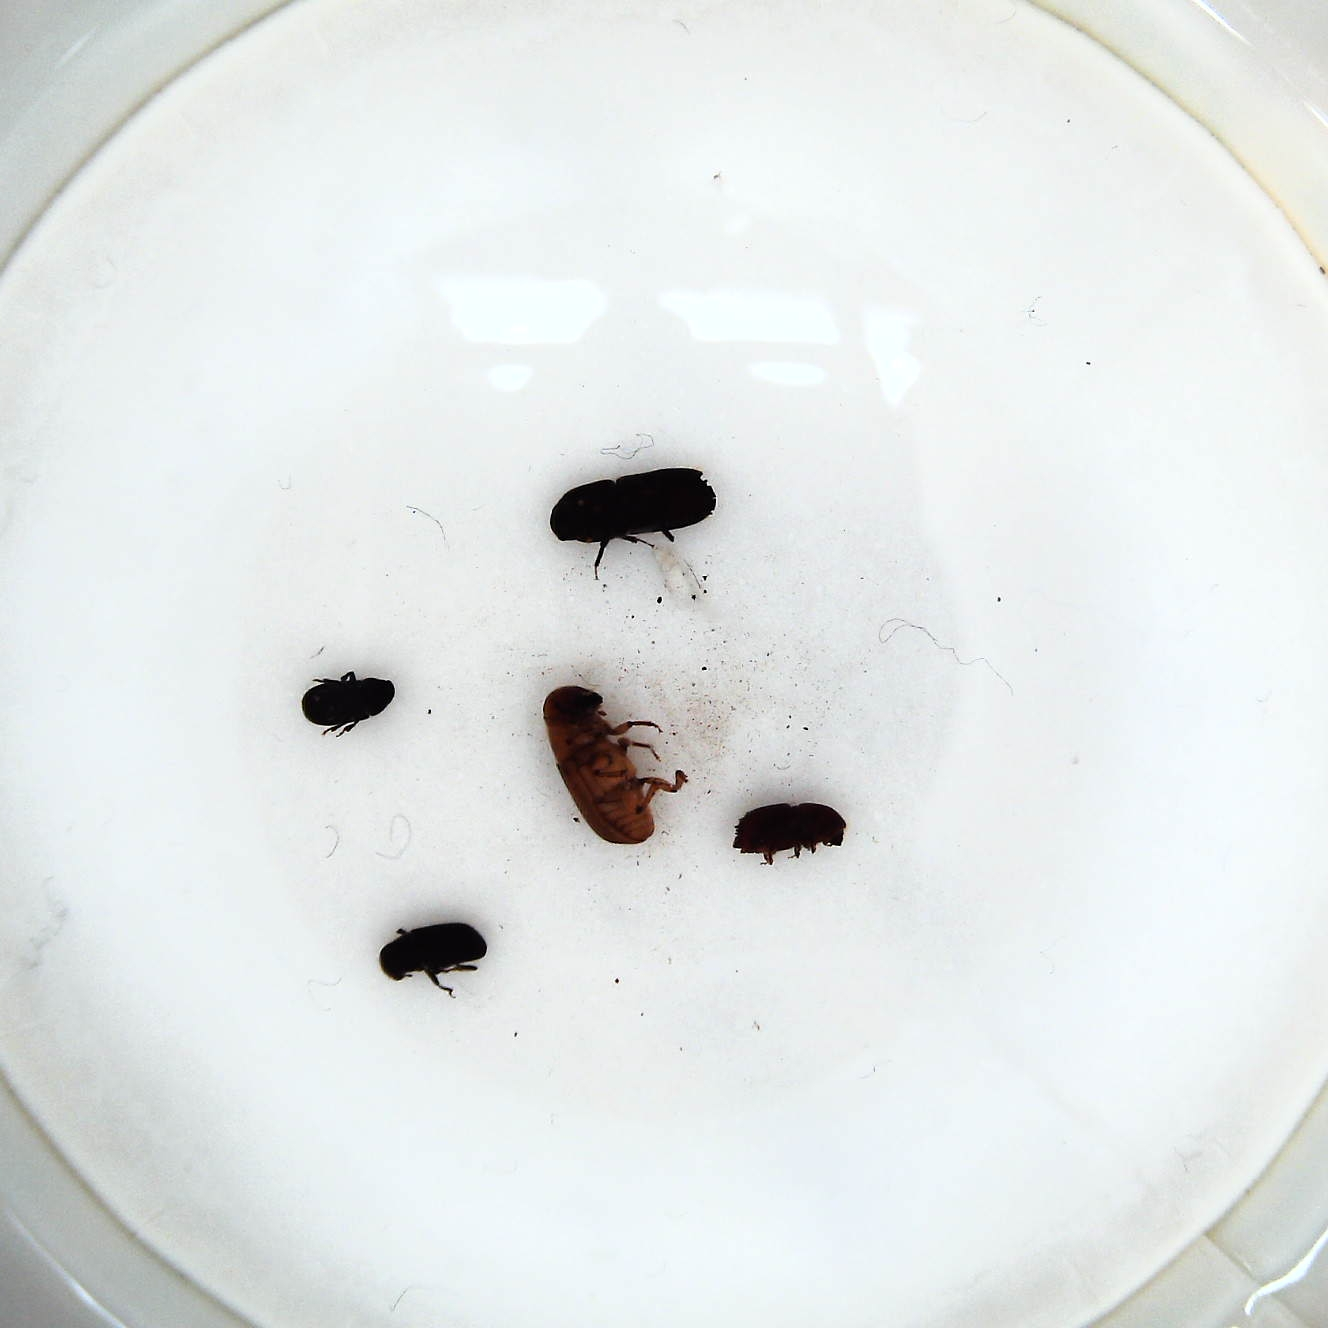Boerner: (546, 462, 721, 575)
Leconte: (536, 679, 694, 850)
armandi: (378, 918, 493, 989)
coleoptera: (297, 673, 396, 733)
linnaeus: (726, 801, 851, 867)
